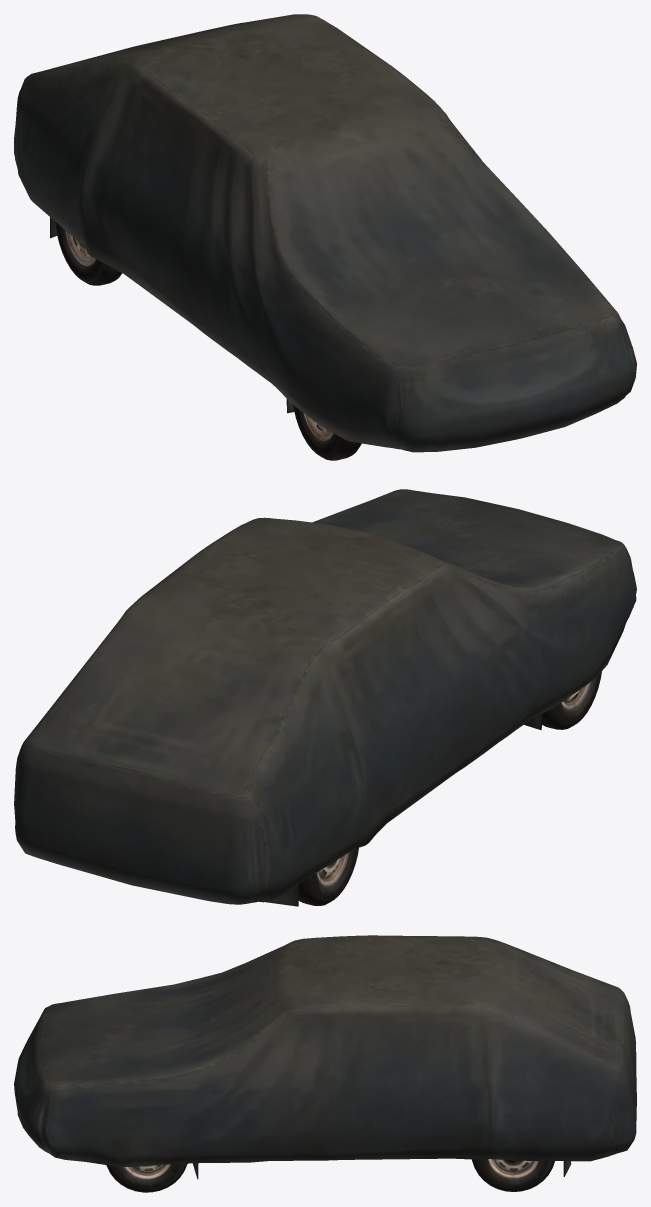
The model's file is covered_car.glb.
The picture shows the model from 3 angles, top to bottom: view 1: azimuth 30°, elevation 25°; view 2: azimuth 150°, elevation 25°; view 3: azimuth 270°, elevation 25°; orthographic projection. The views are drawn at different scales.
Parts seen in each view (by area): view 1: covered_car_wheel_01; view 2: covered_car_wheel_01; view 3: covered_car_wheel_01.
Boxes of the visible parts, left/top/right/bottom form: covered_car_wheel_01: left=14, top=14, right=636, bottom=460; covered_car_wheel_01: left=14, top=489, right=636, bottom=906; covered_car_wheel_01: left=14, top=935, right=636, bottom=1192.
Size of the model in its own units: 1.79 by 1.41 by 4.38.
1 material, 1 textured.
